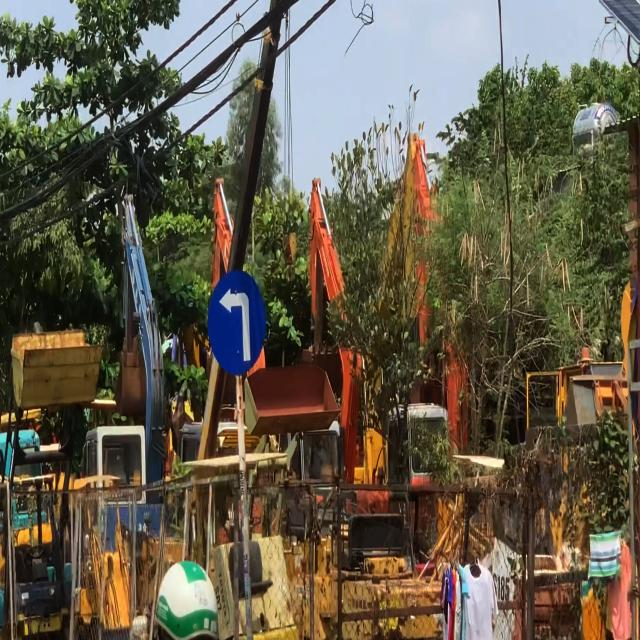Re trai: (206, 267, 267, 377)
